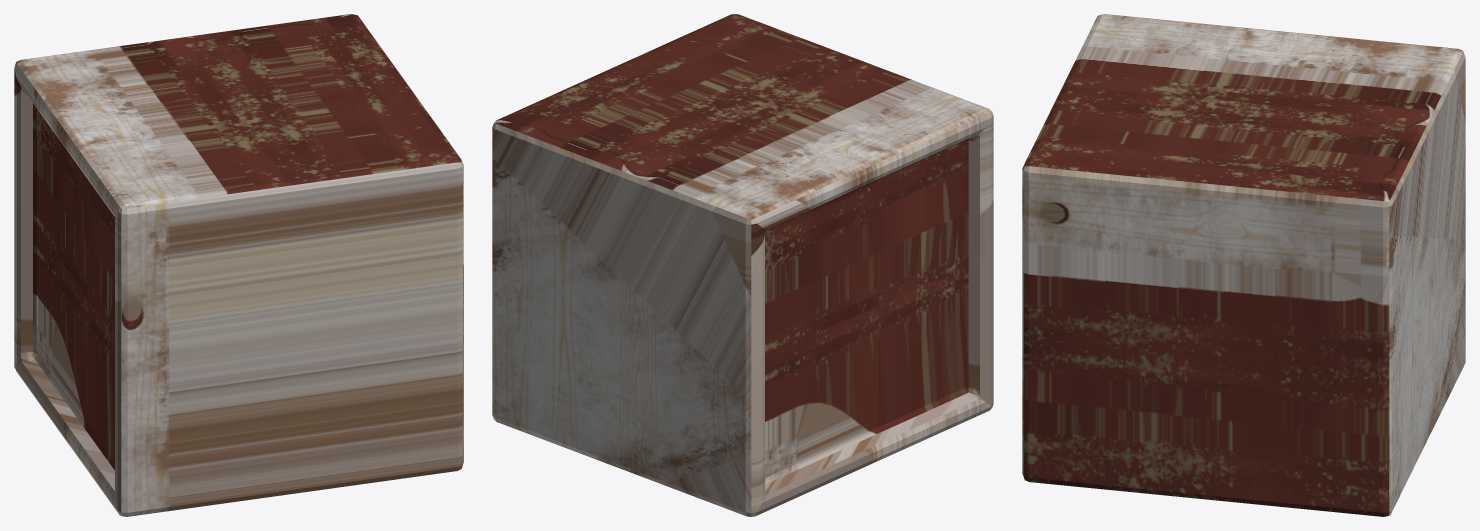
3 renders of one model, left to right at view 1: azimuth 30°, elevation 25°; view 2: azimuth 150°, elevation 25°; view 3: azimuth 270°, elevation 25°, orthographic. The views are drawn at different scales.
Visible parts, largest first — view 1: télés.001; view 2: télés.001; view 3: télés.001.
Boxes of the visible parts, x1,y1,x2,y2 form: télés.001: (14, 14, 463, 516); télés.001: (492, 14, 993, 516); télés.001: (1022, 14, 1465, 516).
Size of the model in its own units: 76.62 by 60.5 by 75.9.
